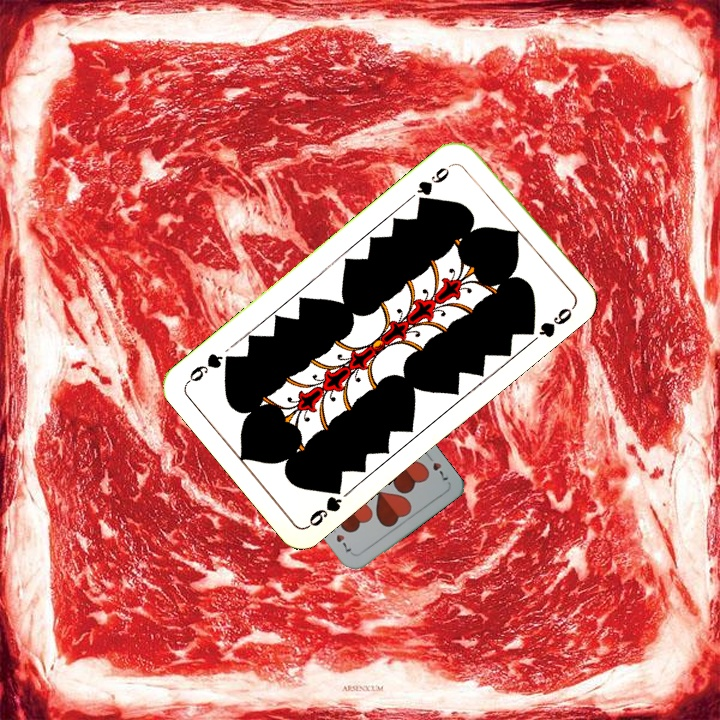G9: (303, 479, 345, 530), (413, 159, 457, 207)
H7: (422, 450, 451, 485)
